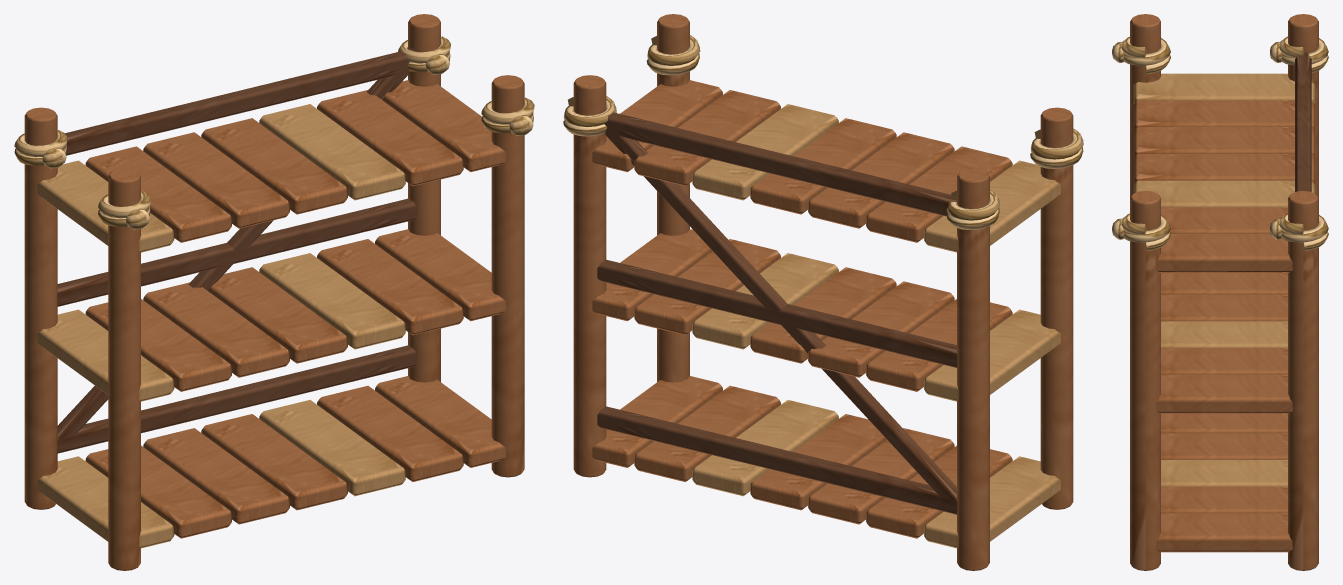
The model's file is SM_StorageShelf_Empty.glb.
3 renders of one model, left to right at view 1: azimuth 30°, elevation 25°; view 2: azimuth 150°, elevation 25°; view 3: azimuth 270°, elevation 25°, orthographic. The views are drawn at different scales.
Visible parts, largest first — view 1: SM_StorageShelf_Empty; view 2: SM_StorageShelf_Empty; view 3: SM_StorageShelf_Empty.
Boxes of the visible parts, box(x1,y1,x2,y2) form: SM_StorageShelf_Empty: box(14, 14, 534, 570); SM_StorageShelf_Empty: box(563, 14, 1083, 570); SM_StorageShelf_Empty: box(1112, 14, 1328, 570).
Size of the model in its own units: 1.96 by 1.7 by 0.9071.
Materials: 1 (1 with a texture image).
